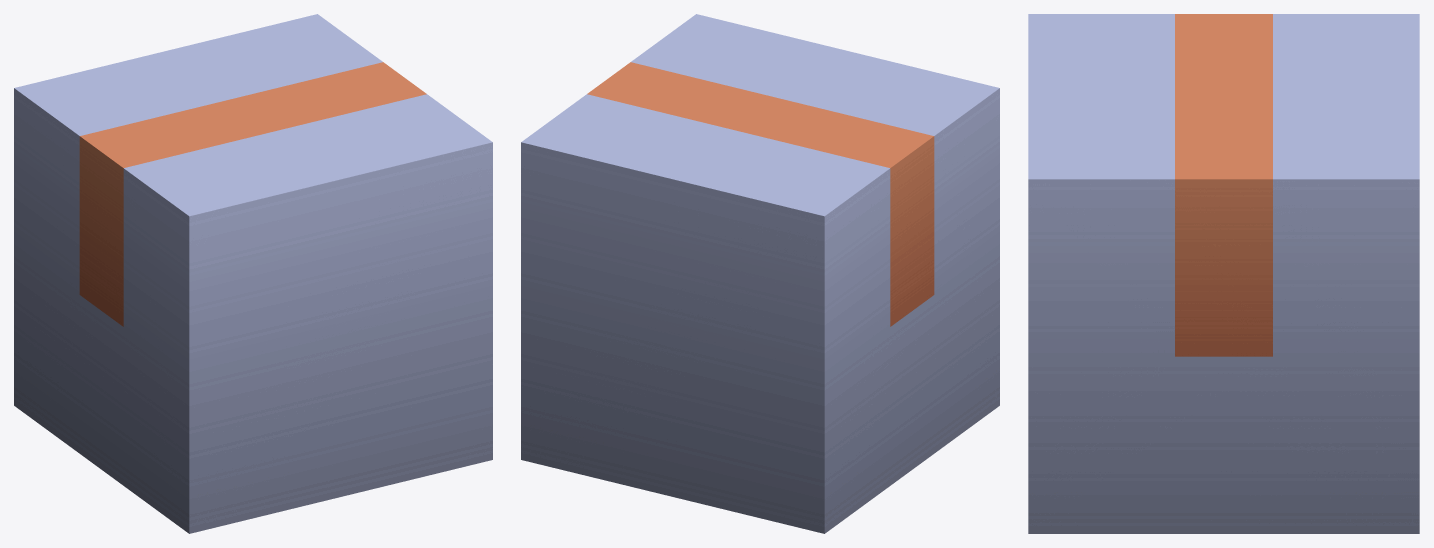
The model's file is box-small.glb.
The picture shows the model from 3 angles, left to right: view 1: azimuth 30°, elevation 25°; view 2: azimuth 150°, elevation 25°; view 3: azimuth 270°, elevation 25°; orthographic projection. The views are drawn at different scales.
Visible parts, largest first — view 1: box-small; view 2: box-small; view 3: box-small.
Boxes of the visible parts, x1,y1,x2,y2 form: box-small: (14,14,492,533); box-small: (521,14,999,533); box-small: (1028,14,1419,533).
Size of the model in its own units: 0.5 by 0.5 by 0.5.
1 material, 1 textured.
